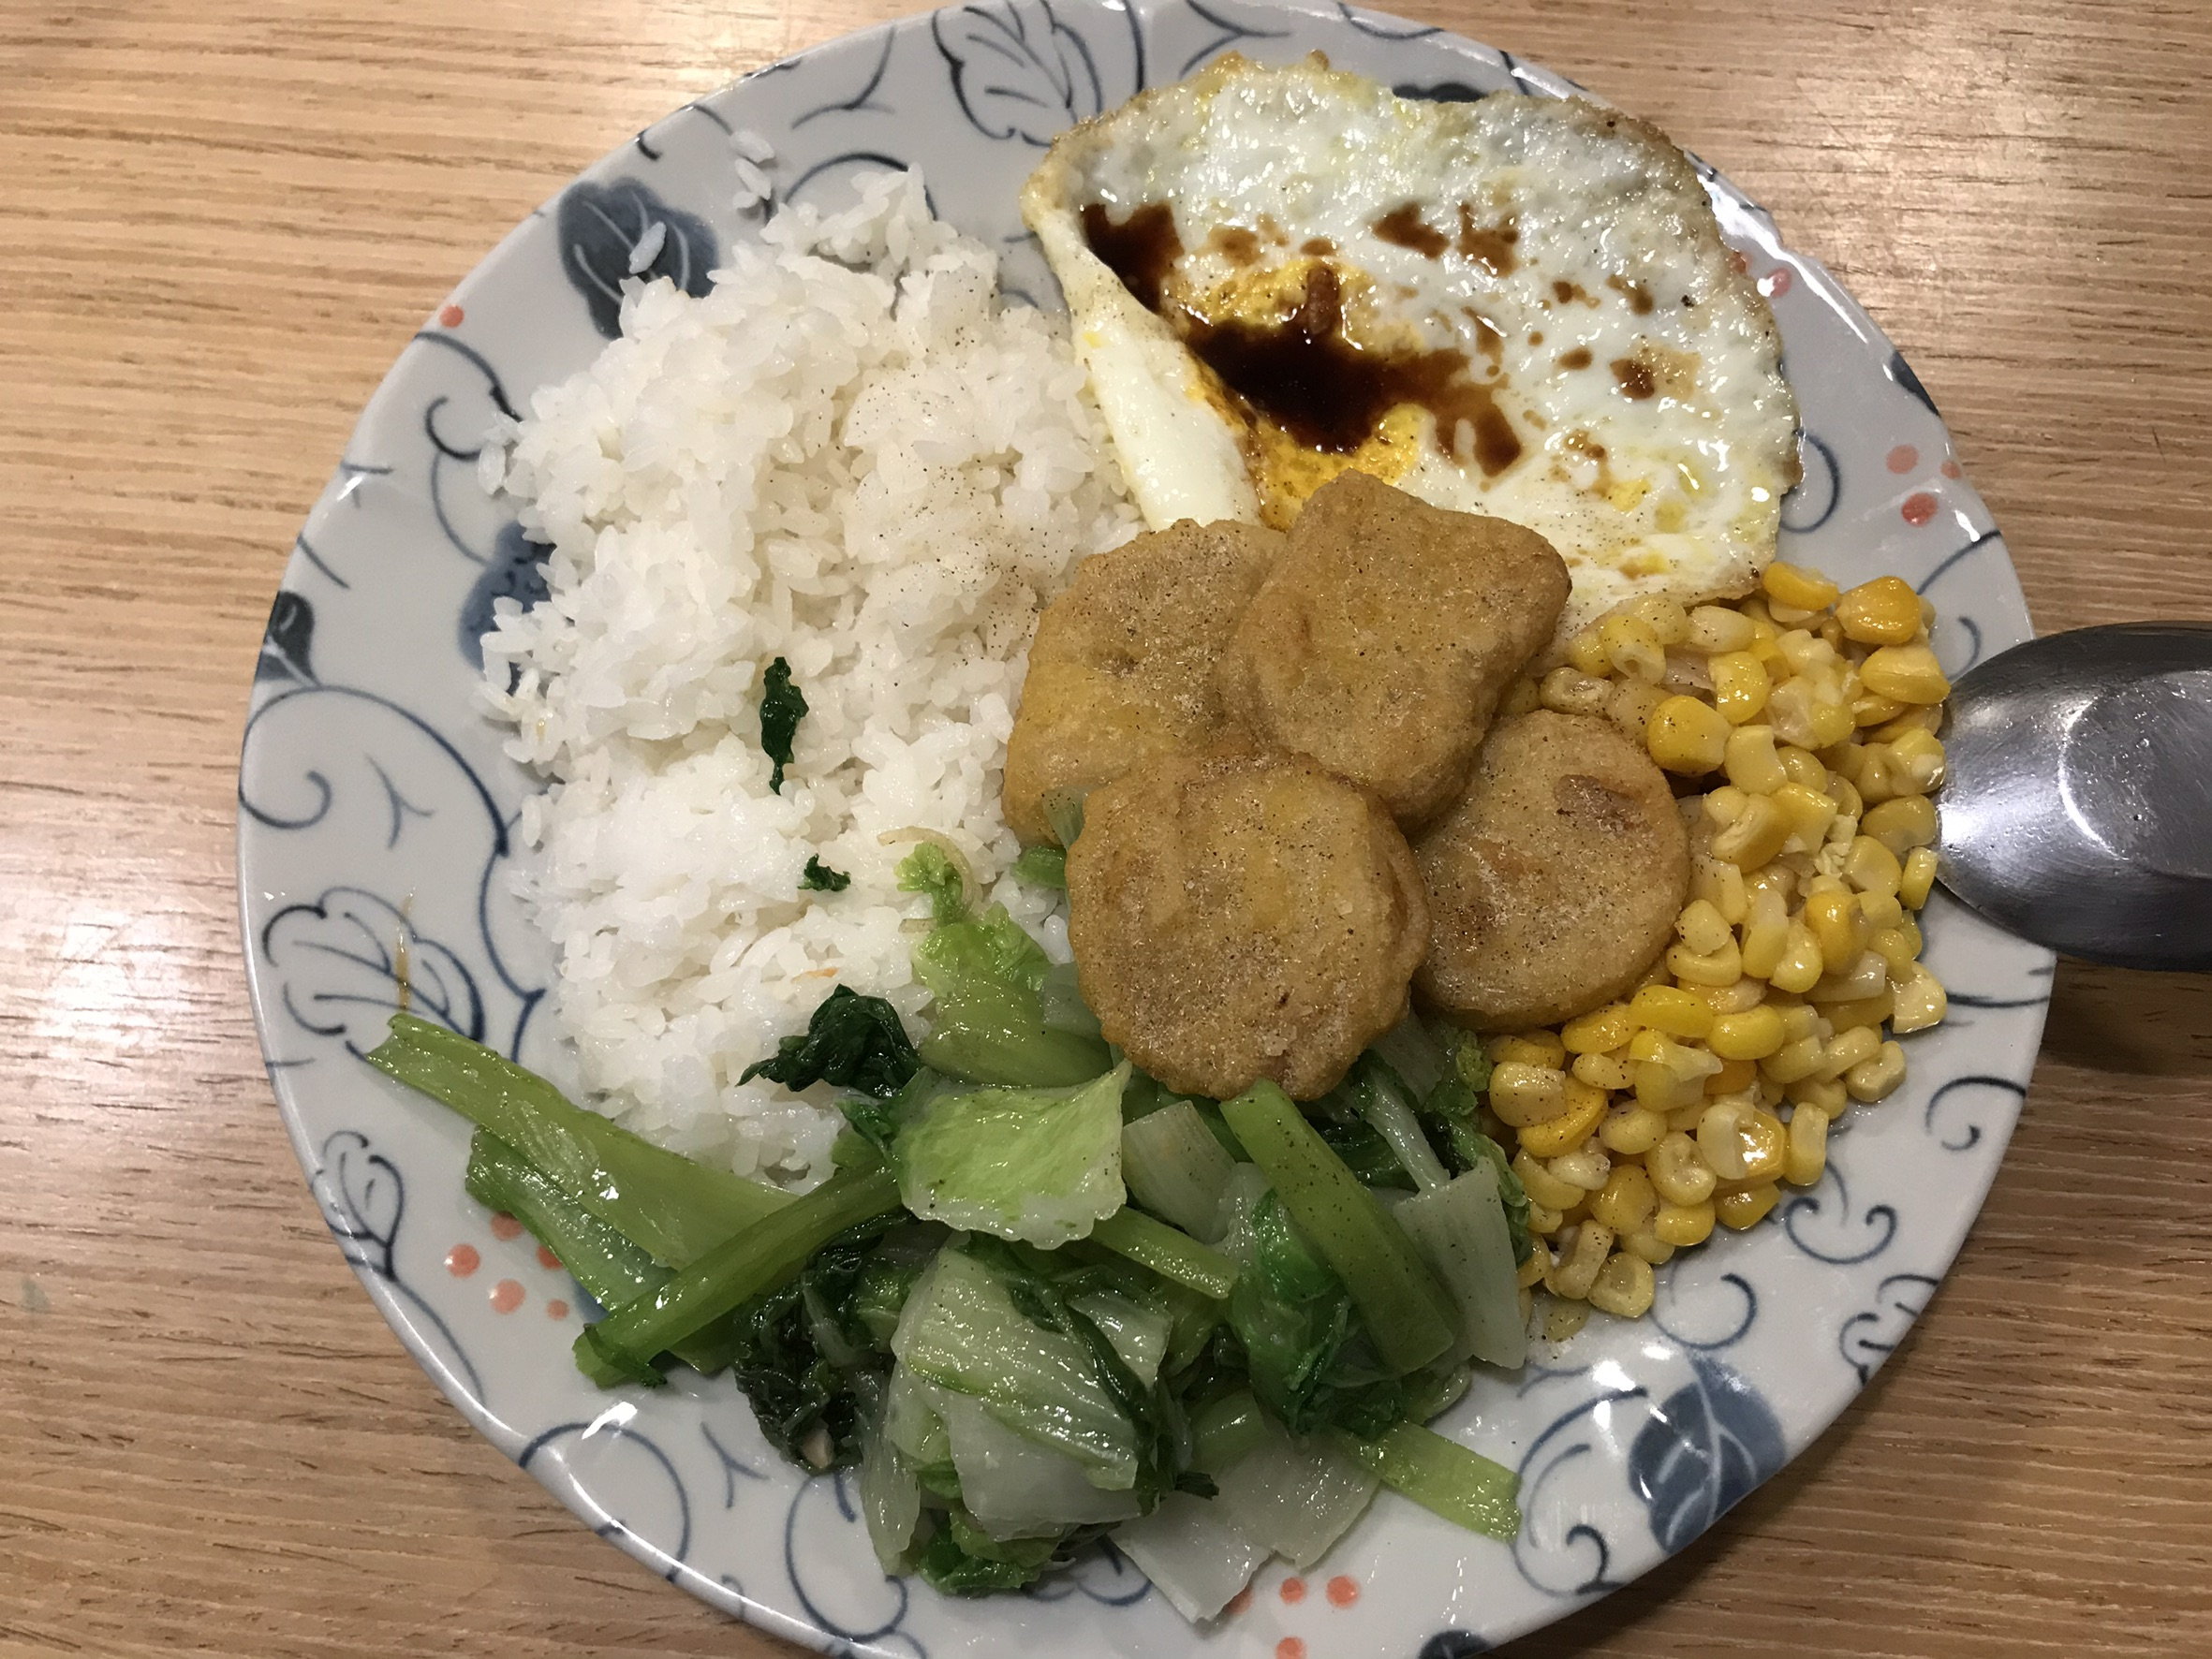chicken_nuggets: (1025, 497, 1672, 1082)
fried_eggs: (1135, 68, 1754, 596)
rice: (519, 244, 1008, 932)
